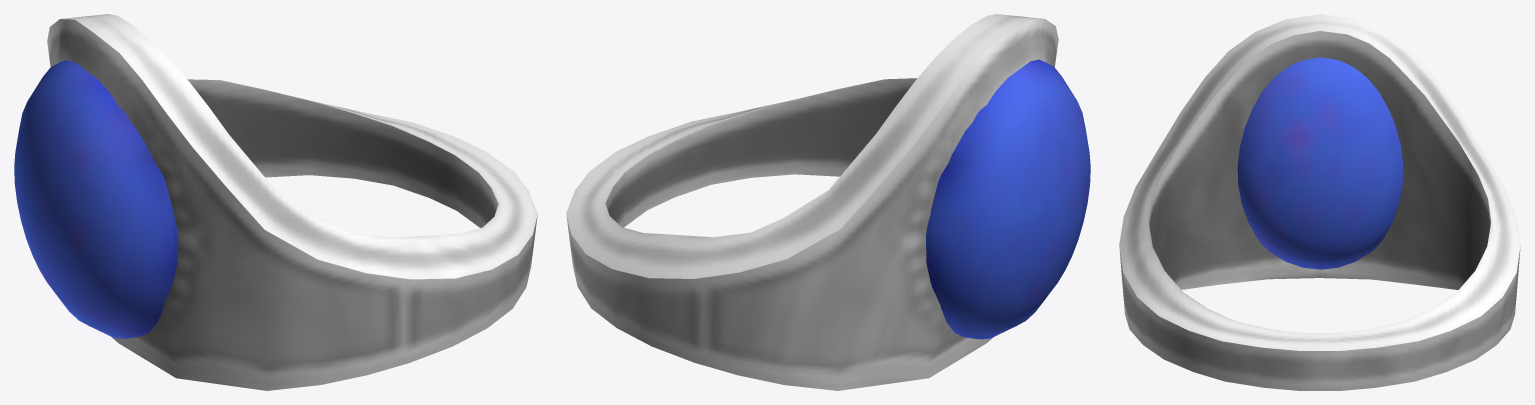
Rendered from SM_Ring_C_Silver.fbx.
The picture shows the model from 3 angles, left to right: view 1: azimuth 30°, elevation 25°; view 2: azimuth 150°, elevation 25°; view 3: azimuth 270°, elevation 25°; orthographic projection. The views are drawn at different scales.
Visible parts, largest first — view 1: SM_Ring_C_Silver_LOD0; view 2: SM_Ring_C_Silver_LOD0; view 3: SM_Ring_C_Silver_LOD0.
Part boxes in pixels (left/top/right/bottom): SM_Ring_C_Silver_LOD0: left=14, top=14, right=537, bottom=390; SM_Ring_C_Silver_LOD0: left=566, top=14, right=1090, bottom=390; SM_Ring_C_Silver_LOD0: left=1119, top=14, right=1520, bottom=390.
Bounding box in the file's own units: 3.37 × 3.21 × 2.2.
